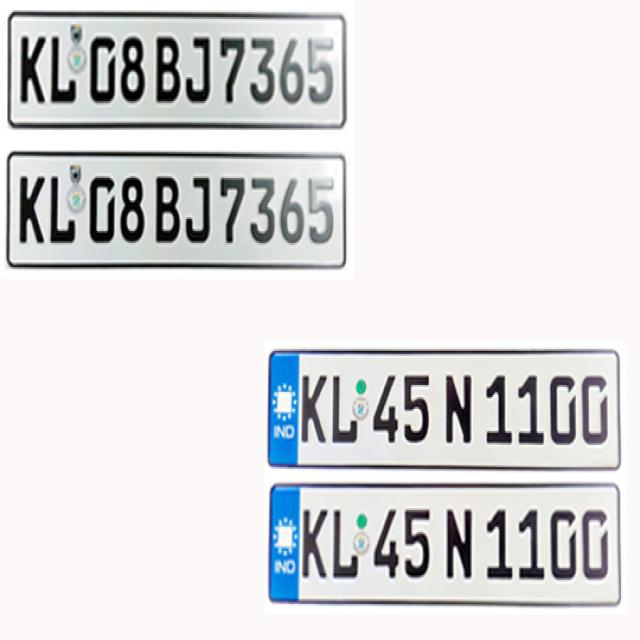plate: (265, 349, 623, 476), (269, 483, 622, 610), (5, 8, 351, 134), (4, 147, 349, 269)
